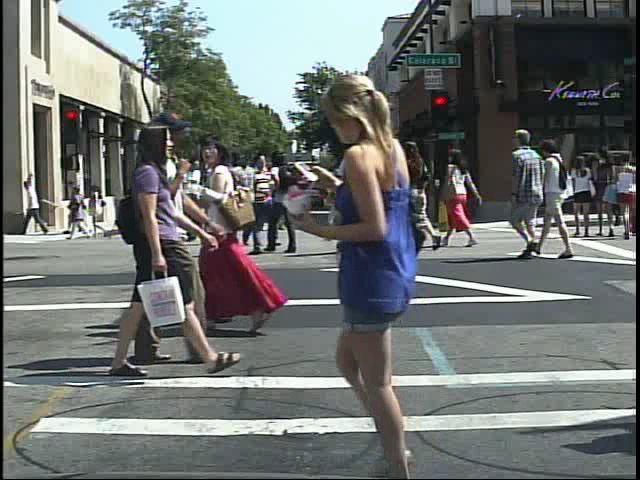person: (305, 70, 506, 479), (107, 106, 233, 384), (194, 133, 284, 338), (161, 107, 227, 368), (200, 133, 244, 334), (396, 134, 445, 262), (506, 124, 549, 261), (337, 138, 381, 258), (226, 138, 268, 261), (538, 134, 576, 261), (448, 145, 491, 256), (265, 150, 305, 257), (245, 149, 286, 249), (174, 155, 213, 251), (207, 152, 244, 251), (567, 148, 599, 241), (151, 173, 172, 241), (69, 182, 89, 232)
